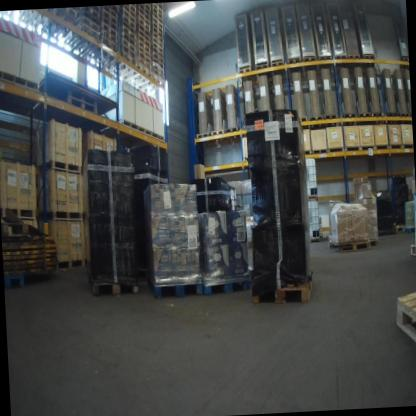pallet: (250, 265, 317, 305), (145, 264, 203, 307), (0, 61, 42, 119), (99, 119, 165, 152), (87, 268, 143, 301), (201, 270, 252, 302), (393, 288, 416, 352), (62, 94, 96, 119), (3, 217, 36, 241), (50, 251, 84, 274), (37, 158, 80, 176), (334, 237, 373, 255), (64, 85, 94, 108), (43, 208, 82, 225), (2, 204, 38, 220), (207, 125, 230, 148), (192, 130, 214, 153), (301, 51, 316, 79), (236, 64, 255, 85), (269, 58, 288, 79), (360, 50, 378, 72), (285, 55, 302, 78), (333, 50, 347, 77), (253, 61, 271, 81), (346, 52, 360, 76), (309, 111, 325, 132), (319, 53, 332, 76), (341, 109, 357, 127), (323, 110, 338, 129), (356, 108, 372, 125), (226, 123, 242, 138), (327, 235, 339, 255), (295, 112, 309, 129), (370, 110, 384, 126), (393, 222, 406, 236), (403, 222, 416, 235), (408, 241, 416, 259), (400, 55, 409, 70), (312, 146, 327, 155), (386, 109, 398, 120), (399, 111, 410, 119)
